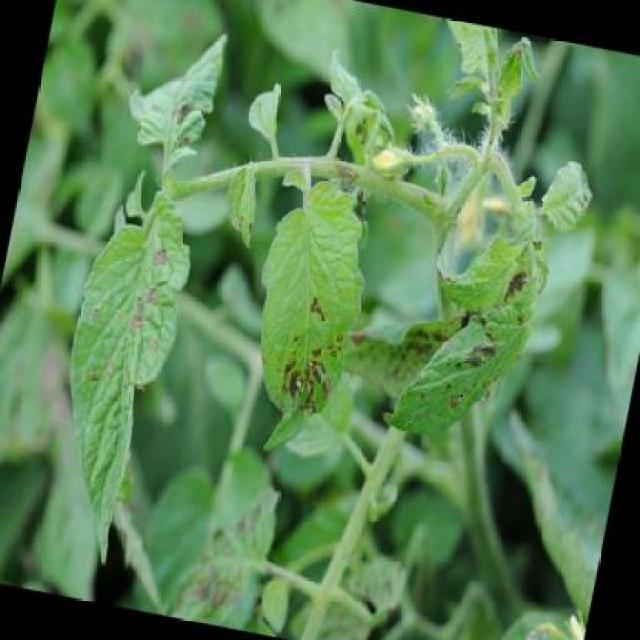Tomato leaf bacterial spot: (400, 246, 557, 480), (59, 194, 206, 420), (238, 292, 354, 463)
